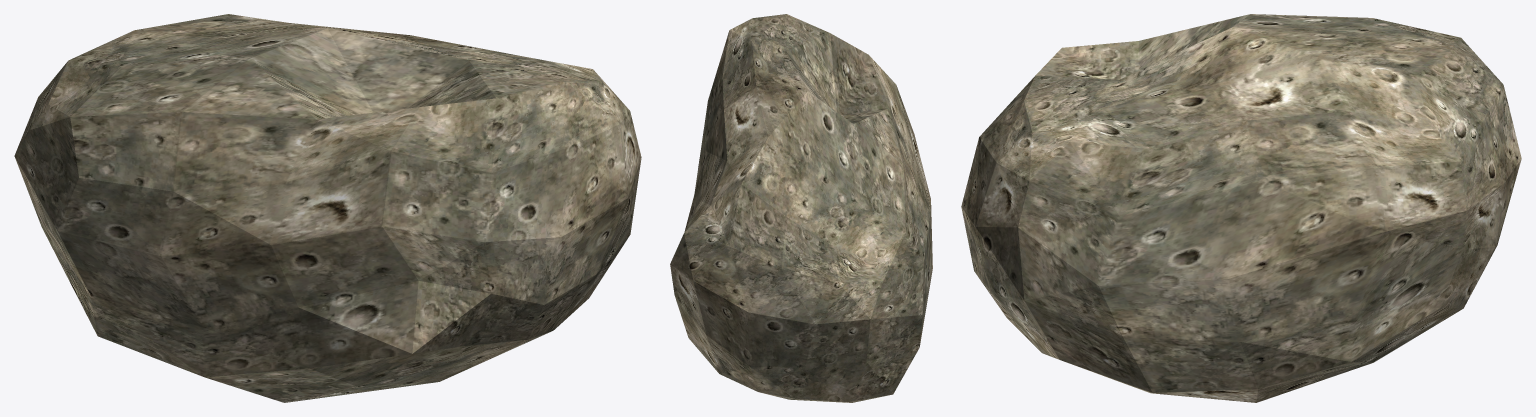
File: asteroid_all_small_02_l0.fbx
3 renders of one model, left to right at view 1: azimuth 30°, elevation 25°; view 2: azimuth 150°, elevation 25°; view 3: azimuth 270°, elevation 25°, orthographic. The views are drawn at different scales.
Parts seen in each view (by area): view 1: mesh_node; view 2: mesh_node; view 3: mesh_node.
Part boxes in pixels (box(x1,y1,x2,y2)): mesh_node: box(14, 14, 641, 402); mesh_node: box(670, 14, 932, 402); mesh_node: box(961, 14, 1521, 402).
Bounding box in the file's own units: 24.2 × 20.34 × 28.38.
